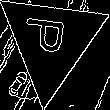P_E: (25, 20, 77, 63)
